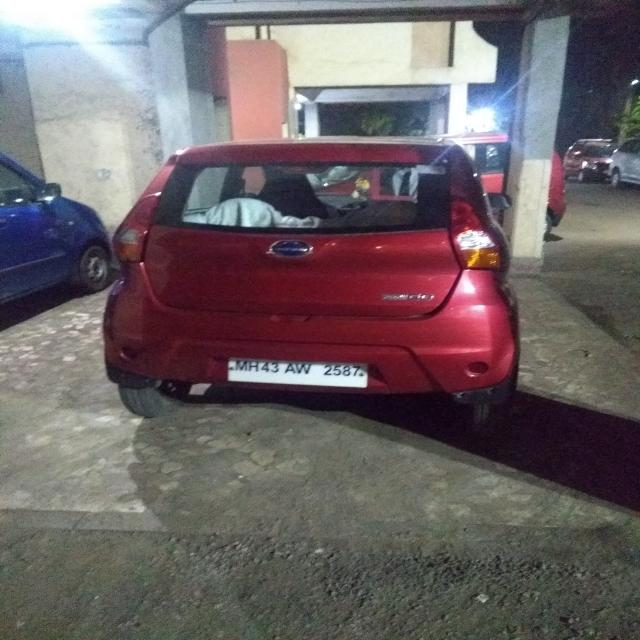Number-Plate: (231, 356, 364, 384)
